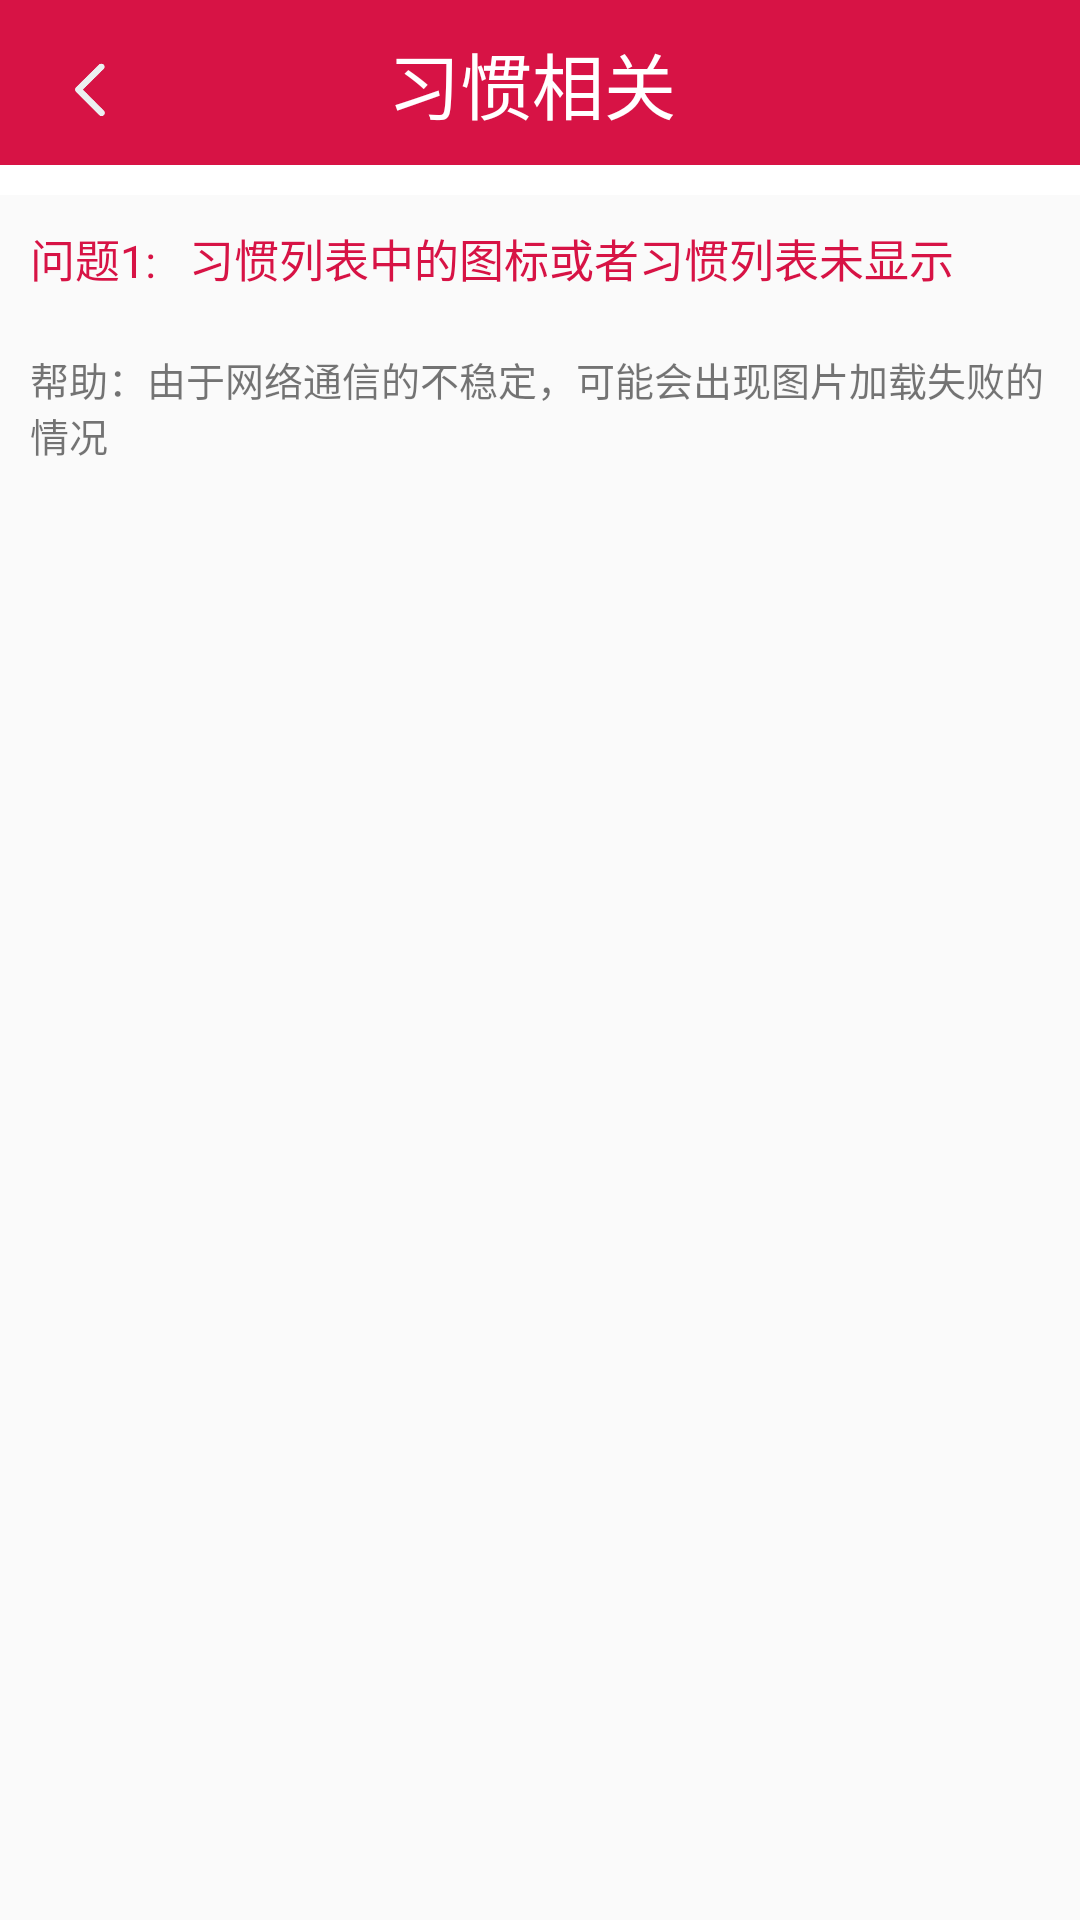

Screen size 1080w x 1920h. Icon name, then its box in pixels as (x1, y1, x2, y2):
back: (75, 63, 105, 116)
